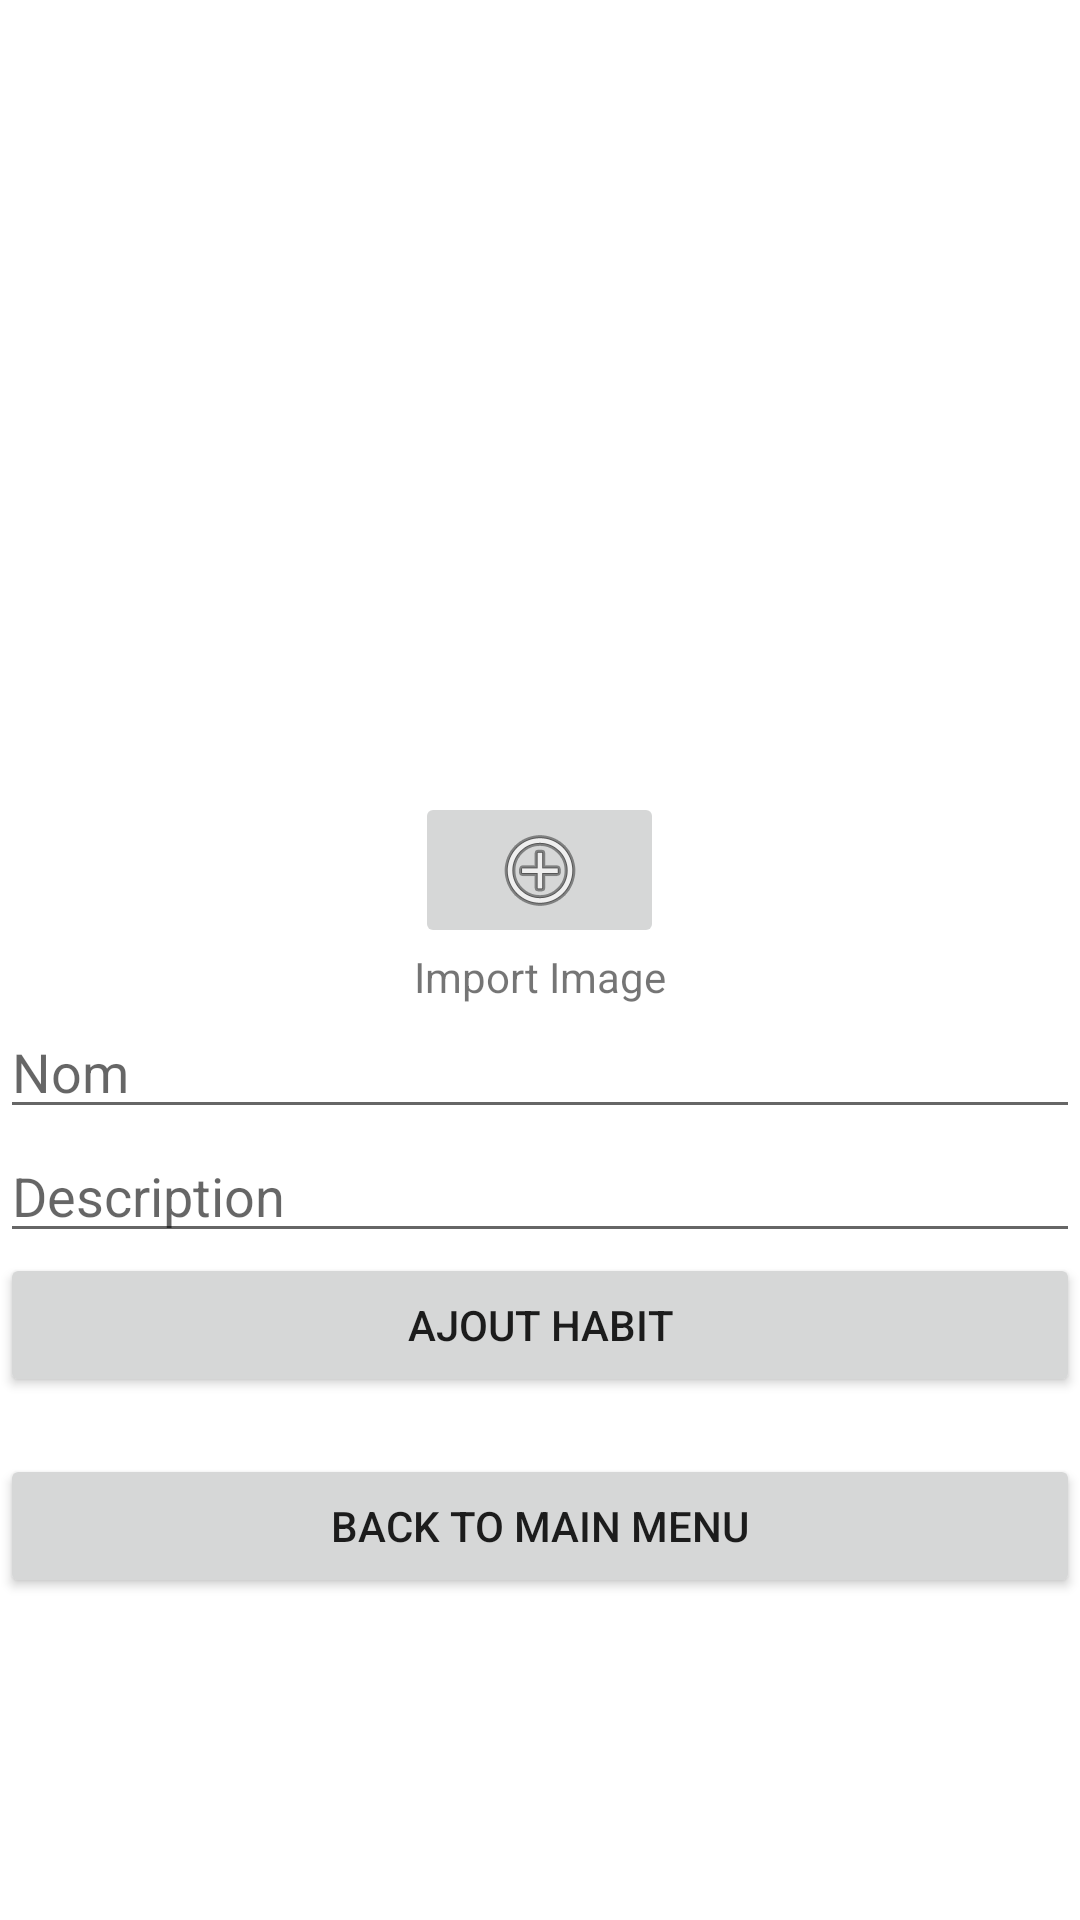

Icons on this 1080px×1920px Android screen, each with the point to tap as (x,y):
add: (539,870)
